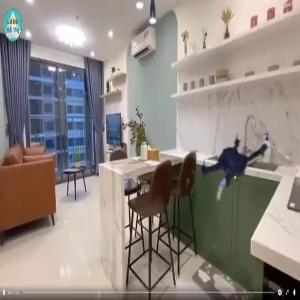drone: (183, 121, 280, 218)
